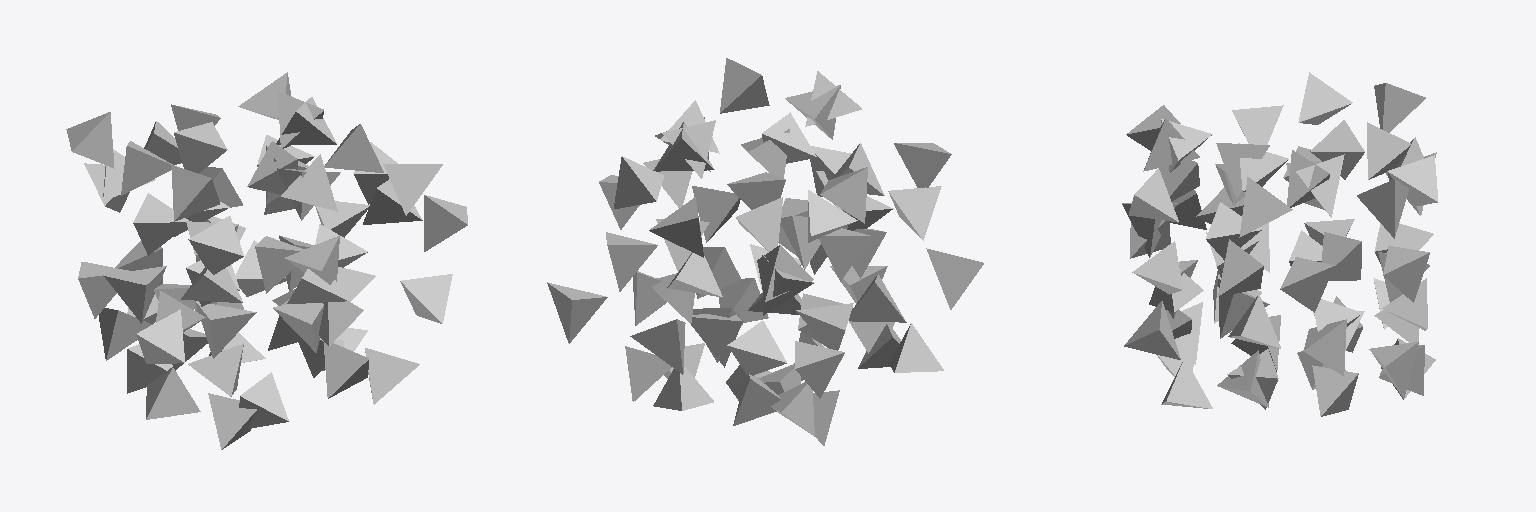
Rendered from sand1x1.obj.
The picture shows the model from 3 angles: view 1: azimuth 30°, elevation 25°; view 2: azimuth 150°, elevation 25°; view 3: azimuth 270°, elevation 25°; orthographic projection.
Visible parts, largest first — view 1: Plane.004_Plane.569; view 2: Plane.004_Plane.569; view 3: Plane.004_Plane.569.
Part boxes in pixels (bbox=[...]): Plane.004_Plane.569: bbox=[66, 72, 467, 449]; Plane.004_Plane.569: bbox=[547, 58, 983, 445]; Plane.004_Plane.569: bbox=[1122, 72, 1437, 416].
Size of the model in its own units: 0.0286 by 0.023 by 0.0233.